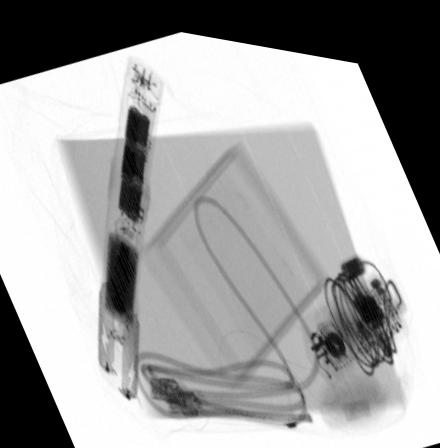Baton: (95, 48, 163, 398)
